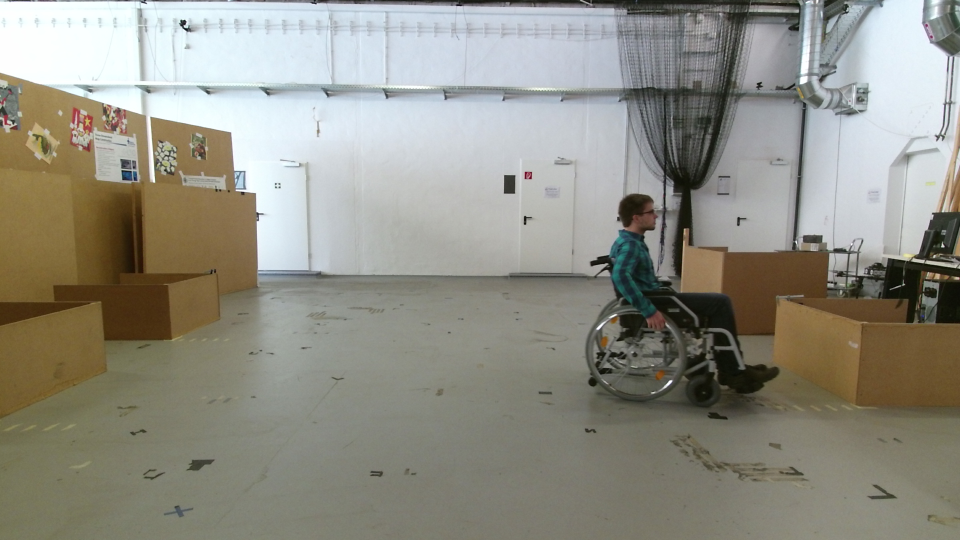wheelchair: (585, 188, 795, 418)
